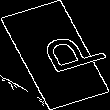P_W: (14, 29, 96, 81)
